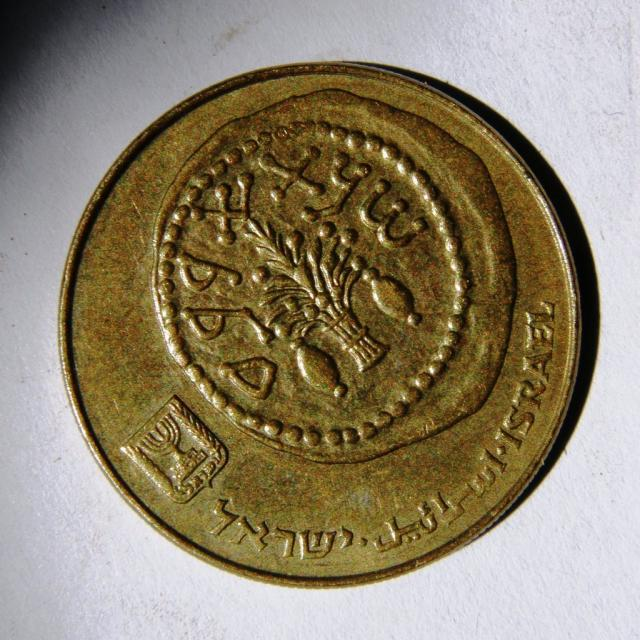Coin: (58, 63, 583, 590)
